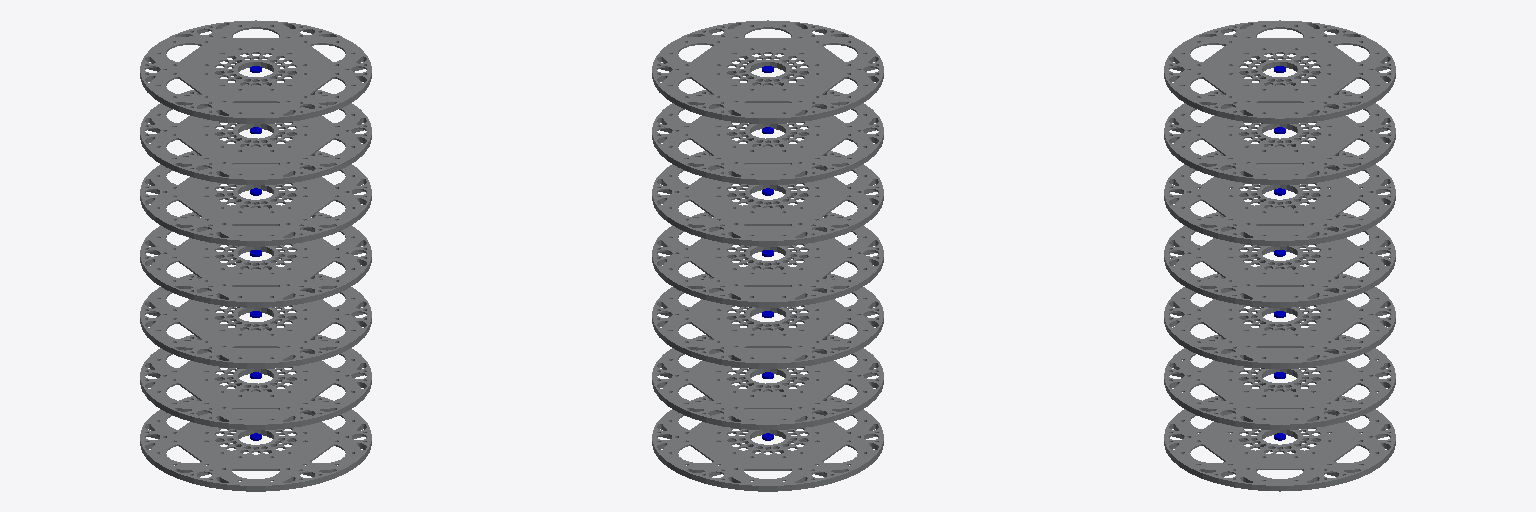
--- Facts derived from the render (not from the file) ---
The picture shows the robot from 3 angles, left to right: view 1: azimuth 30°, elevation 25°; view 2: azimuth 150°, elevation 25°; view 3: azimuth 270°, elevation 25°; orthographic projection.
Robot: origarmRigidKE — 32 links, 31 joints (24 revolute, 6 prismatic, 1 fixed); root link world; default pose: every joint at zero.
Links seen in each view (by area): view 1: plate_-1, plate_5, plate_1, plate_2, plate_0, plate_4, plate_3; view 2: plate_-1, plate_5, plate_1, plate_2, plate_0, plate_4, plate_3; view 3: plate_-1, plate_1, plate_2, plate_4, plate_5, plate_3, plate_0.
Boxes of the visible links, bbox=[...] form: plate_-1: bbox=[140, 20, 371, 123]; plate_5: bbox=[140, 390, 371, 491]; plate_1: bbox=[140, 145, 371, 246]; plate_2: bbox=[140, 205, 371, 307]; plate_0: bbox=[140, 84, 371, 184]; plate_4: bbox=[140, 329, 371, 429]; plate_3: bbox=[140, 268, 371, 368]; plate_-1: bbox=[652, 20, 883, 123]; plate_5: bbox=[652, 390, 883, 491]; plate_1: bbox=[652, 145, 883, 246]; plate_2: bbox=[652, 205, 883, 307]; plate_0: bbox=[652, 84, 883, 184]; plate_4: bbox=[652, 329, 883, 429]; plate_3: bbox=[652, 268, 883, 368]; plate_-1: bbox=[1164, 20, 1395, 123]; plate_1: bbox=[1164, 145, 1395, 246]; plate_2: bbox=[1164, 205, 1395, 307]; plate_4: bbox=[1164, 329, 1395, 429]; plate_5: bbox=[1164, 390, 1395, 491]; plate_3: bbox=[1164, 266, 1395, 368]; plate_0: bbox=[1164, 84, 1395, 184].
Size in the robot's own frame: 0.189 by 0.1888 by 0.336 metres.
Meshes: 1 distinct files referenced, 7 mesh visuals loaded (1 binary STL).

URDF robot description (origarmRigidKE):
<?xml version="1.0" ?>
<!-- =================================================================================== -->
<!-- |    This document was autogenerated by xacro from [local-path]/catkin_ws/src/origarm_ros/model/urdf/origarmRigidKE.urdf.xacro | -->
<!-- |    EDITING THIS FILE BY HAND IS NOT RECOMMENDED                                 | -->
<!-- =================================================================================== -->
<robot name="origarmRigidKE">
  <material name="black">
    <color rgba="0.0 0.0 0.0 1.0"/>
  </material>
  <material name="blue">
    <color rgba="0.0 0.0 0.8 1.0"/>
  </material>
  <material name="green">
    <color rgba="0.0 0.8 0.0 1.0"/>
  </material>
  <material name="grey">
    <color rgba="0.2 0.2 0.2 1.0"/>
  </material>
  <material name="orange">
    <color rgba="1.0 0.4235294117647059 0.0392156862745098 1.0"/>
  </material>
  <material name="brown">
    <color rgba="0.8705882352941177 0.8117647058823529 0.7647058823529411 1.0"/>
  </material>
  <material name="red">
    <color rgba="0.8 0.0 0.0 1.0"/>
  </material>
  <material name="white">
    <color rgba="1.0 1.0 1.0 1.0"/>
  </material>
  <material name="aluminum">
    <color rgba="0.5176470588235295 0.5294117647058824 0.5372549019607843 1.0"/>
  </material>
  <link name="world"/>
  <joint name="fixed" type="fixed">
    <parent link="world"/>
    <child link="plate_-1"/>
    <origin rpy="3.141592653589793 0 0" xyz="0 0 1"/>
  </joint>
  <link name="plate_-1">
    <visual>
      <origin rpy="0 0 0" xyz="0 0 0"/>
      <geometry>
        <mesh filename="package://origarm_ros/model/mesh/origarmPlate_m.STL"/>
      </geometry>
      <material name="aluminum"/>
    </visual>
    <collision>
      <geometry>
        <cylinder length="0.005" radius="0.095"/>
      </geometry>
    </collision>
    <inertial>
      <origin rpy="0 0 0" xyz="0 0 0"/>
      <mass value="0.127"/>
      <inertia ixx="0.00032197" ixy="0.0" ixz="0.0" iyy="0.00032197" iyz="0.0" izz="0.00064284"/>
    </inertial>
  </link>
  <joint name="phantom_joint_segment_0_1_beta" type="revolute">
    <parent link="plate_-1"/>
    <child link="phantom_link_0_1"/>
    <axis xyz="0 0 1"/>
    <origin xyz="0 0 0"/>
    <limit effort="200" lower="-6.283185307179586" upper="6.283185307179586" velocity="20"/>
    <dynamics damping="0.7" friction="0.3"/>
  </joint>
  <link name="phantom_link_0_1">
    <visual>
      <geometry>
        <cylinder length="0.002" radius="0.005"/>
      </geometry>
      <origin rpy="0 0 0" xyz="0 0 0"/>
      <material name="blue"/>
    </visual>
    <inertial>
      <origin rpy="0 0 0" xyz="0 0 0"/>
      <mass value="0.01"/>
      <inertia ixx="0.001" ixy="0.0" ixz="0.0" iyy="0.001" iyz="0.0" izz="0.001"/>
    </inertial>
  </link>
  <joint name="phantom_joint_segment_0_2_alpha2" type="revolute">
    <parent link="phantom_link_0_1"/>
    <child link="phantom_link_0_2"/>
    <axis xyz="0 1 0"/>
    <origin xyz="0 0 0"/>
    <limit effort="200" lower="0.0" upper="0.25" velocity="20"/>
    <dynamics damping="0.7" friction="0.3"/>
  </joint>
  <link name="phantom_link_0_2">
    <visual>
      <geometry>
        <cylinder length="0.002" radius="0.005"/>
      </geometry>
      <origin rpy="0 0 0" xyz="0 0 0"/>
      <material name="blue"/>
    </visual>
    <inertial>
      <origin rpy="0 0 0" xyz="0 0 0"/>
      <mass value="0.01"/>
      <inertia ixx="0.001" ixy="0.0" ixz="0.0" iyy="0.001" iyz="0.0" izz="0.001"/>
    </inertial>
  </link>
  <joint name="phantom_joint_segment_0_3_translation" type="prismatic">
    <parent link="phantom_link_0_2"/>
    <child link="phantom_link_0_3"/>
    <axis xyz="0 0 1"/>
    <origin xyz="0 0 0.055"/>
    <limit effort="200" lower="-0.02" upper="0.03" velocity="20"/>
    <dynamics damping="0.7" friction="0.5"/>
  </joint>
  <link name="phantom_link_0_3">
    <visual>
      <geometry>
        <cylinder length="0.002" radius="0.005"/>
      </geometry>
      <origin rpy="0 0 0" xyz="0 0 0"/>
      <material name="blue"/>
    </visual>
    <inertial>
      <origin rpy="0 0 0" xyz="0 0 0"/>
      <mass value="0.01"/>
      <inertia ixx="0.001" ixy="0.0" ixz="0.0" iyy="0.001" iyz="0.0" izz="0.001"/>
    </inertial>
  </link>
  <joint name="phantom_joint_segment_0_4_alpha2" type="revolute">
    <parent link="phantom_link_0_3"/>
    <child link="phantom_link_0_4"/>
    <axis xyz="0 1 0"/>
    <origin xyz="0 0 0"/>
    <mimic joint="phantom_joint_segment_0_2_alpha2" multiplier="1" offset="0"/>
    <limit effort="200" lower="0.0" upper="0.25" velocity="20"/>
    <dynamics damping="0.7" friction="0.3"/>
  </joint>
  <link name="phantom_link_0_4">
    <visual>
      <geometry>
        <cylinder length="0.002" radius="0.005"/>
      </geometry>
      <origin rpy="0 0 0" xyz="0 0 0"/>
      <material name="blue"/>
    </visual>
    <inertial>
      <origin rpy="0 0 0" xyz="0 0 0"/>
      <mass value="0.01"/>
      <inertia ixx="0.001" ixy="0.0" ixz="0.0" iyy="0.001" iyz="0.0" izz="0.001"/>
    </inertial>
  </link>
  <joint name="phantom_joint_segment_0_5_betaN" type="revolute">
    <parent link="phantom_link_0_4"/>
    <child link="plate_0"/>
    <axis xyz="0 0 1"/>
    <origin xyz="0 0 0"/>
    <mimic joint="phantom_joint_segment_0_1_beta" multiplier="-1" offset="0"/>
    <limit effort="200" lower="-6.283185307179586" upper="6.283185307179586" velocity="20"/>
    <dynamics damping="0.7" friction="0.3"/>
  </joint>
  <link name="plate_0">
    <visual>
      <origin rpy="0 0 0" xyz="0 0 0"/>
      <geometry>
        <mesh filename="package://origarm_ros/model/mesh/origarmPlate_m.STL"/>
      </geometry>
      <material name="aluminum"/>
    </visual>
    <collision>
      <geometry>
        <cylinder length="0.005" radius="0.095"/>
      </geometry>
    </collision>
    <inertial>
      <origin rpy="0 0 0" xyz="0 0 0"/>
      <mass value="0.127"/>
      <inertia ixx="0.00032197" ixy="0.0" ixz="0.0" iyy="0.00032197" iyz="0.0" izz="0.00064284"/>
    </inertial>
  </link>
  <joint name="phantom_joint_segment_1_1_beta" type="revolute">
    <parent link="plate_0"/>
    <child link="phantom_link_1_1"/>
    <axis xyz="0 0 1"/>
    <origin xyz="0 0 0"/>
    <limit effort="200" lower="-6.283185307179586" upper="6.283185307179586" velocity="20"/>
    <dynamics damping="0.7" friction="0.3"/>
  </joint>
  <link name="phantom_link_1_1">
    <visual>
      <geometry>
        <cylinder length="0.002" radius="0.005"/>
      </geometry>
      <origin rpy="0 0 0" xyz="0 0 0"/>
      <material name="blue"/>
    </visual>
    <inertial>
      <origin rpy="0 0 0" xyz="0 0 0"/>
      <mass value="0.01"/>
      <inertia ixx="0.001" ixy="0.0" ixz="0.0" iyy="0.001" iyz="0.0" izz="0.001"/>
    </inertial>
  </link>
  <joint name="phantom_joint_segment_1_2_alpha2" type="revolute">
    <parent link="phantom_link_1_1"/>
    <child link="phantom_link_1_2"/>
    <axis xyz="0 1 0"/>
    <origin xyz="0 0 0"/>
    <limit effort="200" lower="0.0" upper="0.25" velocity="20"/>
    <dynamics damping="0.7" friction="0.3"/>
  </joint>
  <link name="phantom_link_1_2">
    <visual>
      <geometry>
        <cylinder length="0.002" radius="0.005"/>
      </geometry>
      <origin rpy="0 0 0" xyz="0 0 0"/>
      <material name="blue"/>
    </visual>
    <inertial>
      <origin rpy="0 0 0" xyz="0 0 0"/>
      <mass value="0.01"/>
      <inertia ixx="0.001" ixy="0.0" ixz="0.0" iyy="0.001" iyz="0.0" izz="0.001"/>
    </inertial>
  </link>
  <joint name="phantom_joint_segment_1_3_translation" type="prismatic">
    <parent link="phantom_link_1_2"/>
    <child link="phantom_link_1_3"/>
    <axis xyz="0 0 1"/>
    <origin xyz="0 0 0.055"/>
    <limit effort="200" lower="-0.02" upper="0.03" velocity="20"/>
    <dynamics damping="0.7" friction="0.5"/>
  </joint>
  <link name="phantom_link_1_3">
    <visual>
      <geometry>
        <cylinder length="0.002" radius="0.005"/>
      </geometry>
      <origin rpy="0 0 0" xyz="0 0 0"/>
      <material name="blue"/>
    </visual>
    <inertial>
      <origin rpy="0 0 0" xyz="0 0 0"/>
      <mass value="0.01"/>
      <inertia ixx="0.001" ixy="0.0" ixz="0.0" iyy="0.001" iyz="0.0" izz="0.001"/>
    </inertial>
  </link>
  <joint name="phantom_joint_segment_1_4_alpha2" type="revolute">
    <parent link="phantom_link_1_3"/>
    <child link="phantom_link_1_4"/>
    <axis xyz="0 1 0"/>
    <origin xyz="0 0 0"/>
    <mimic joint="phantom_joint_segment_1_2_alpha2" multiplier="1" offset="0"/>
    <limit effort="200" lower="0.0" upper="0.25" velocity="20"/>
    <dynamics damping="0.7" friction="0.3"/>
  </joint>
  <link name="phantom_link_1_4">
    <visual>
      <geometry>
        <cylinder length="0.002" radius="0.005"/>
      </geometry>
      <origin rpy="0 0 0" xyz="0 0 0"/>
      <material name="blue"/>
    </visual>
    <inertial>
      <origin rpy="0 0 0" xyz="0 0 0"/>
      <mass value="0.01"/>
      <inertia ixx="0.001" ixy="0.0" ixz="0.0" iyy="0.001" iyz="0.0" izz="0.001"/>
    </inertial>
  </link>
  <joint name="phantom_joint_segment_1_5_betaN" type="revolute">
    <parent link="phantom_link_1_4"/>
    <child link="plate_1"/>
    <axis xyz="0 0 1"/>
    <origin xyz="0 0 0"/>
    <mimic joint="phantom_joint_segment_1_1_beta" multiplier="-1" offset="0"/>
    <limit effort="200" lower="-6.283185307179586" upper="6.283185307179586" velocity="20"/>
    <dynamics damping="0.7" friction="0.3"/>
  </joint>
  <link name="plate_1">
    <visual>
      <origin rpy="0 0 0" xyz="0 0 0"/>
      <geometry>
        <mesh filename="package://origarm_ros/model/mesh/origarmPlate_m.STL"/>
      </geometry>
      <material name="aluminum"/>
    </visual>
    <collision>
      <geometry>
        <cylinder length="0.005" radius="0.095"/>
      </geometry>
    </collision>
    <inertial>
      <origin rpy="0 0 0" xyz="0 0 0"/>
      <mass value="0.127"/>
      <inertia ixx="0.00032197" ixy="0.0" ixz="0.0" iyy="0.00032197" iyz="0.0" izz="0.00064284"/>
    </inertial>
  </link>
  <joint name="phantom_joint_segment_2_1_beta" type="revolute">
    <parent link="plate_1"/>
    <child link="phantom_link_2_1"/>
    <axis xyz="0 0 1"/>
    <origin xyz="0 0 0"/>
    <limit effort="200" lower="-6.283185307179586" upper="6.283185307179586" velocity="20"/>
    <dynamics damping="0.7" friction="0.3"/>
  </joint>
  <link name="phantom_link_2_1">
    <visual>
      <geometry>
        <cylinder length="0.002" radius="0.005"/>
      </geometry>
      <origin rpy="0 0 0" xyz="0 0 0"/>
      <material name="blue"/>
    </visual>
    <inertial>
      <origin rpy="0 0 0" xyz="0 0 0"/>
      <mass value="0.01"/>
      <inertia ixx="0.001" ixy="0.0" ixz="0.0" iyy="0.001" iyz="0.0" izz="0.001"/>
    </inertial>
  </link>
  <joint name="phantom_joint_segment_2_2_alpha2" type="revolute">
    <parent link="phantom_link_2_1"/>
    <child link="phantom_link_2_2"/>
    <axis xyz="0 1 0"/>
    <origin xyz="0 0 0"/>
    <limit effort="200" lower="0.0" upper="0.25" velocity="20"/>
    <dynamics damping="0.7" friction="0.3"/>
  </joint>
  <link name="phantom_link_2_2">
    <visual>
      <geometry>
        <cylinder length="0.002" radius="0.005"/>
      </geometry>
      <origin rpy="0 0 0" xyz="0 0 0"/>
      <material name="blue"/>
    </visual>
    <inertial>
      <origin rpy="0 0 0" xyz="0 0 0"/>
      <mass value="0.01"/>
      <inertia ixx="0.001" ixy="0.0" ixz="0.0" iyy="0.001" iyz="0.0" izz="0.001"/>
    </inertial>
  </link>
  <joint name="phantom_joint_segment_2_3_translation" type="prismatic">
    <parent link="phantom_link_2_2"/>
    <child link="phantom_link_2_3"/>
    <axis xyz="0 0 1"/>
    <origin xyz="0 0 0.055"/>
    <limit effort="200" lower="-0.02" upper="0.03" velocity="20"/>
    <dynamics damping="0.7" friction="0.5"/>
  </joint>
  <link name="phantom_link_2_3">
    <visual>
      <geometry>
        <cylinder length="0.002" radius="0.005"/>
      </geometry>
      <origin rpy="0 0 0" xyz="0 0 0"/>
      <material name="blue"/>
    </visual>
    <inertial>
      <origin rpy="0 0 0" xyz="0 0 0"/>
      <mass value="0.01"/>
      <inertia ixx="0.001" ixy="0.0" ixz="0.0" iyy="0.001" iyz="0.0" izz="0.001"/>
    </inertial>
  </link>
  <joint name="phantom_joint_segment_2_4_alpha2" type="revolute">
    <parent link="phantom_link_2_3"/>
    <child link="phantom_link_2_4"/>
    <axis xyz="0 1 0"/>
    <origin xyz="0 0 0"/>
    <mimic joint="phantom_joint_segment_2_2_alpha2" multiplier="1" offset="0"/>
    <limit effort="200" lower="0.0" upper="0.25" velocity="20"/>
    <dynamics damping="0.7" friction="0.3"/>
  </joint>
  <link name="phantom_link_2_4">
    <visual>
      <geometry>
        <cylinder length="0.002" radius="0.005"/>
      </geometry>
      <origin rpy="0 0 0" xyz="0 0 0"/>
      <material name="blue"/>
    </visual>
    <inertial>
      <origin rpy="0 0 0" xyz="0 0 0"/>
      <mass value="0.01"/>
      <inertia ixx="0.001" ixy="0.0" ixz="0.0" iyy="0.001" iyz="0.0" izz="0.001"/>
    </inertial>
  </link>
  <joint name="phantom_joint_segment_2_5_betaN" type="revolute">
    <parent link="phantom_link_2_4"/>
    <child link="plate_2"/>
    <axis xyz="0 0 1"/>
    <origin xyz="0 0 0"/>
    <mimic joint="phantom_joint_segment_2_1_beta" multiplier="-1" offset="0"/>
    <limit effort="200" lower="-6.283185307179586" upper="6.283185307179586" velocity="20"/>
    <dynamics damping="0.7" friction="0.3"/>
  </joint>
  <link name="plate_2">
    <visual>
      <origin rpy="0 0 0" xyz="0 0 0"/>
      <geometry>
        <mesh filename="package://origarm_ros/model/mesh/origarmPlate_m.STL"/>
      </geometry>
      <material name="aluminum"/>
    </visual>
    <collision>
      <geometry>
        <cylinder length="0.005" radius="0.095"/>
      </geometry>
    </collision>
    <inertial>
      <origin rpy="0 0 0" xyz="0 0 0"/>
      <mass value="0.127"/>
      <inertia ixx="0.00032197" ixy="0.0" ixz="0.0" iyy="0.00032197" iyz="0.0" izz="0.00064284"/>
    </inertial>
  </link>
  <joint name="phantom_joint_segment_3_1_beta" type="revolute">
    <parent link="plate_2"/>
    <child link="phantom_link_3_1"/>
    <axis xyz="0 0 1"/>
    <origin xyz="0 0 0"/>
    <limit effort="200" lower="-6.283185307179586" upper="6.283185307179586" velocity="20"/>
    <dynamics damping="0.7" friction="0.3"/>
  </joint>
  <link name="phantom_link_3_1">
    <visual>
      <geometry>
        <cylinder length="0.002" radius="0.005"/>
      </geometry>
      <origin rpy="0 0 0" xyz="0 0 0"/>
      <material name="blue"/>
    </visual>
    <inertial>
      <origin rpy="0 0 0" xyz="0 0 0"/>
      <mass value="0.01"/>
      <inertia ixx="0.001" ixy="0.0" ixz="0.0" iyy="0.001" iyz="0.0" izz="0.001"/>
    </inertial>
  </link>
  <joint name="phantom_joint_segment_3_2_alpha2" type="revolute">
    <parent link="phantom_link_3_1"/>
    <child link="phantom_link_3_2"/>
    <axis xyz="0 1 0"/>
    <origin xyz="0 0 0"/>
    <limit effort="200" lower="0.0" upper="0.25" velocity="20"/>
    <dynamics damping="0.7" friction="0.3"/>
  </joint>
  <link name="phantom_link_3_2">
    <visual>
      <geometry>
        <cylinder length="0.002" radius="0.005"/>
      </geometry>
      <origin rpy="0 0 0" xyz="0 0 0"/>
      <material name="blue"/>
    </visual>
    <inertial>
      <origin rpy="0 0 0" xyz="0 0 0"/>
      <mass value="0.01"/>
      <inertia ixx="0.001" ixy="0.0" ixz="0.0" iyy="0.001" iyz="0.0" izz="0.001"/>
    </inertial>
  </link>
  <joint name="phantom_joint_segment_3_3_translation" type="prismatic">
    <parent link="phantom_link_3_2"/>
    <child link="phantom_link_3_3"/>
    <axis xyz="0 0 1"/>
    <origin xyz="0 0 0.055"/>
    <limit effort="200" lower="-0.02" upper="0.03" velocity="20"/>
    <dynamics damping="0.7" friction="0.5"/>
  </joint>
  <link name="phantom_link_3_3">
    <visual>
      <geometry>
        <cylinder length="0.002" radius="0.005"/>
      </geometry>
      <origin rpy="0 0 0" xyz="0 0 0"/>
      <material name="blue"/>
    </visual>
    <inertial>
      <origin rpy="0 0 0" xyz="0 0 0"/>
      <mass value="0.01"/>
      <inertia ixx="0.001" ixy="0.0" ixz="0.0" iyy="0.001" iyz="0.0" izz="0.001"/>
    </inertial>
  </link>
  <joint name="phantom_joint_segment_3_4_alpha2" type="revolute">
    <parent link="phantom_link_3_3"/>
    <child link="phantom_link_3_4"/>
    <axis xyz="0 1 0"/>
    <origin xyz="0 0 0"/>
    <mimic joint="phantom_joint_segment_3_2_alpha2" multiplier="1" offset="0"/>
    <limit effort="200" lower="0.0" upper="0.25" velocity="20"/>
    <dynamics damping="0.7" friction="0.3"/>
  </joint>
  <link name="phantom_link_3_4">
    <visual>
      <geometry>
        <cylinder length="0.002" radius="0.005"/>
      </geometry>
      <origin rpy="0 0 0" xyz="0 0 0"/>
      <material name="blue"/>
    </visual>
    <inertial>
      <origin rpy="0 0 0" xyz="0 0 0"/>
      <mass value="0.01"/>
      <inertia ixx="0.001" ixy="0.0" ixz="0.0" iyy="0.001" iyz="0.0" izz="0.001"/>
    </inertial>
  </link>
  <joint name="phantom_joint_segment_3_5_betaN" type="revolute">
    <parent link="phantom_link_3_4"/>
    <child link="plate_3"/>
    <axis xyz="0 0 1"/>
    <origin xyz="0 0 0"/>
    <mimic joint="phantom_joint_segment_3_1_beta" multiplier="-1" offset="0"/>
    <limit effort="200" lower="-6.283185307179586" upper="6.283185307179586" velocity="20"/>
    <dynamics damping="0.7" friction="0.3"/>
  </joint>
  <link name="plate_3">
    <visual>
      <origin rpy="0 0 0" xyz="0 0 0"/>
      <geometry>
        <mesh filename="package://origarm_ros/model/mesh/origarmPlate_m.STL"/>
      </geometry>
      <material name="aluminum"/>
    </visual>
    <collision>
      <geometry>
        <cylinder length="0.005" radius="0.095"/>
      </geometry>
    </collision>
    <inertial>
      <origin rpy="0 0 0" xyz="0 0 0"/>
      <mass value="0.127"/>
      <inertia ixx="0.00032197" ixy="0.0" ixz="0.0" iyy="0.00032197" iyz="0.0" izz="0.00064284"/>
    </inertial>
  </link>
  <joint name="phantom_joint_segment_4_1_beta" type="revolute">
    <parent link="plate_3"/>
    <child link="phantom_link_4_1"/>
    <axis xyz="0 0 1"/>
    <origin xyz="0 0 0"/>
    <limit effort="200" lower="-6.283185307179586" upper="6.283185307179586" velocity="20"/>
    <dynamics damping="0.7" friction="0.3"/>
  </joint>
  <link name="phantom_link_4_1">
    <visual>
      <geometry>
        <cylinder length="0.002" radius="0.005"/>
      </geometry>
      <origin rpy="0 0 0" xyz="0 0 0"/>
      <material name="blue"/>
    </visual>
    <inertial>
      <origin rpy="0 0 0" xyz="0 0 0"/>
      <mass value="0.01"/>
      <inertia ixx="0.001" ixy="0.0" ixz="0.0" iyy="0.001" iyz="0.0" izz="0.001"/>
    </inertial>
  </link>
  <joint name="phantom_joint_segment_4_2_alpha2" type="revolute">
    <parent link="phantom_link_4_1"/>
    <child link="phantom_link_4_2"/>
    <axis xyz="0 1 0"/>
    <origin xyz="0 0 0"/>
    <limit effort="200" lower="0.0" upper="0.25" velocity="20"/>
    <dynamics damping="0.7" friction="0.3"/>
  </joint>
  <link name="phantom_link_4_2">
    <visual>
      <geometry>
        <cylinder length="0.002" radius="0.005"/>
      </geometry>
      <origin rpy="0 0 0" xyz="0 0 0"/>
      <material name="blue"/>
    </visual>
    <inertial>
      <origin rpy="0 0 0" xyz="0 0 0"/>
      <mass value="0.01"/>
      <inertia ixx="0.001" ixy="0.0" ixz="0.0" iyy="0.001" iyz="0.0" izz="0.001"/>
    </inertial>
  </link>
  <joint name="phantom_joint_segment_4_3_translation" type="prismatic">
    <parent link="phantom_link_4_2"/>
    <child link="phantom_link_4_3"/>
    <axis xyz="0 0 1"/>
    <origin xyz="0 0 0.055"/>
    <limit effort="200" lower="-0.02" upper="0.03" velocity="20"/>
    <dynamics damping="0.7" friction="0.5"/>
  </joint>
  <link name="phantom_link_4_3">
    <visual>
      <geometry>
        <cylinder length="0.002" radius="0.005"/>
      </geometry>
      <origin rpy="0 0 0" xyz="0 0 0"/>
      <material name="blue"/>
    </visual>
    <inertial>
      <origin rpy="0 0 0" xyz="0 0 0"/>
      <mass value="0.01"/>
      <inertia ixx="0.001" ixy="0.0" ixz="0.0" iyy="0.001" iyz="0.0" izz="0.001"/>
    </inertial>
  </link>
  <joint name="phantom_joint_segment_4_4_alpha2" type="revolute">
    <parent link="phantom_link_4_3"/>
    <child link="phantom_link_4_4"/>
    <axis xyz="0 1 0"/>
    <origin xyz="0 0 0"/>
    <mimic joint="phantom_joint_segment_4_2_alpha2" multiplier="1" offset="0"/>
    <limit effort="200" lower="0.0" upper="0.25" velocity="20"/>
    <dynamics damping="0.7" friction="0.3"/>
  </joint>
  <link name="phantom_link_4_4">
    <visual>
      <geometry>
        <cylinder length="0.002" radius="0.005"/>
      </geometry>
      <origin rpy="0 0 0" xyz="0 0 0"/>
      <material name="blue"/>
    </visual>
    <inertial>
      <origin rpy="0 0 0" xyz="0 0 0"/>
      <mass value="0.01"/>
      <inertia ixx="0.001" ixy="0.0" ixz="0.0" iyy="0.001" iyz="0.0" izz="0.001"/>
    </inertial>
  </link>
  <joint name="phantom_joint_segment_4_5_betaN" type="revolute">
    <parent link="phantom_link_4_4"/>
    <child link="plate_4"/>
    <axis xyz="0 0 1"/>
    <origin xyz="0 0 0"/>
    <mimic joint="phantom_joint_segment_4_1_beta" multiplier="-1" offset="0"/>
    <limit effort="200" lower="-6.283185307179586" upper="6.283185307179586" velocity="20"/>
    <dynamics damping="0.7" friction="0.3"/>
  </joint>
  <link name="plate_4">
    <visual>
      <origin rpy="0 0 0" xyz="0 0 0"/>
      <geometry>
        <mesh filename="package://origarm_ros/model/mesh/origarmPlate_m.STL"/>
      </geometry>
      <material name="aluminum"/>
    </visual>
    <collision>
      <geometry>
        <cylinder length="0.005" radius="0.095"/>
      </geometry>
    </collision>
    <inertial>
      <origin rpy="0 0 0" xyz="0 0 0"/>
      <mass value="0.127"/>
      <inertia ixx="0.00032197" ixy="0.0" ixz="0.0" iyy="0.00032197" iyz="0.0" izz="0.00064284"/>
    </inertial>
  </link>
  <joint name="phantom_joint_segment_5_1_beta" type="revolute">
    <parent link="plate_4"/>
    <child link="phantom_link_5_1"/>
    <axis xyz="0 0 1"/>
    <origin xyz="0 0 0"/>
    <limit effort="200" lower="-6.283185307179586" upper="6.283185307179586" velocity="20"/>
    <dynamics damping="0.7" friction="0.3"/>
  </joint>
  <link name="phantom_link_5_1">
    <visual>
      <geometry>
        <cylinder length="0.002" radius="0.005"/>
      </geometry>
      <origin rpy="0 0 0" xyz="0 0 0"/>
      <material name="blue"/>
    </visual>
    <inertial>
      <origin rpy="0 0 0" xyz="0 0 0"/>
      <mass value="0.01"/>
      <inertia ixx="0.001" ixy="0.0" ixz="0.0" iyy="0.001" iyz="0.0" izz="0.001"/>
    </inertial>
  </link>
  <joint name="phantom_joint_segment_5_2_alpha2" type="revolute">
    <parent link="phantom_link_5_1"/>
    <child link="phantom_link_5_2"/>
    <axis xyz="0 1 0"/>
    <origin xyz="0 0 0"/>
    <limit effort="200" lower="0.0" upper="0.25" velocity="20"/>
    <dynamics damping="0.7" friction="0.3"/>
  </joint>
  <link name="phantom_link_5_2">
    <visual>
      <geometry>
        <cylinder length="0.002" radius="0.005"/>
      </geometry>
      <origin rpy="0 0 0" xyz="0 0 0"/>
      <material name="blue"/>
    </visual>
    <inertial>
      <origin rpy="0 0 0" xyz="0 0 0"/>
      <mass value="0.01"/>
      <inertia ixx="0.001" ixy="0.0" ixz="0.0" iyy="0.001" iyz="0.0" izz="0.001"/>
    </inertial>
  </link>
  <joint name="phantom_joint_segment_5_3_translation" type="prismatic">
    <parent link="phantom_link_5_2"/>
    <child link="phantom_link_5_3"/>
    <axis xyz="0 0 1"/>
    <origin xyz="0 0 0.055"/>
    <limit effort="200" lower="-0.02" upper="0.03" velocity="20"/>
    <dynamics damping="0.7" friction="0.5"/>
  </joint>
  <link name="phantom_link_5_3">
    <visual>
      <geometry>
        <cylinder length="0.002" radius="0.005"/>
      </geometry>
      <origin rpy="0 0 0" xyz="0 0 0"/>
      <material name="blue"/>
    </visual>
    <inertial>
      <origin rpy="0 0 0" xyz="0 0 0"/>
      <mass value="0.01"/>
      <inertia ixx="0.001" ixy="0.0" ixz="0.0" iyy="0.001" iyz="0.0" izz="0.001"/>
    </inertial>
  </link>
  <joint name="phantom_joint_segment_5_4_alpha2" type="revolute">
    <parent link="phantom_link_5_3"/>
    <child link="phantom_link_5_4"/>
    <axis xyz="0 1 0"/>
    <origin xyz="0 0 0"/>
    <mimic joint="phantom_joint_segment_5_2_alpha2" multiplier="1" offset="0"/>
    <limit effort="200" lower="0.0" upper="0.25" velocity="20"/>
    <dynamics damping="0.7" friction="0.3"/>
  </joint>
  <link name="phantom_link_5_4">
    <visual>
      <geometry>
        <cylinder length="0.002" radius="0.005"/>
      </geometry>
      <origin rpy="0 0 0" xyz="0 0 0"/>
      <material name="blue"/>
    </visual>
    <inertial>
      <origin rpy="0 0 0" xyz="0 0 0"/>
      <mass value="0.01"/>
      <inertia ixx="0.001" ixy="0.0" ixz="0.0" iyy="0.001" iyz="0.0" izz="0.001"/>
    </inertial>
  </link>
  <joint name="phantom_joint_segment_5_5_betaN" type="revolute">
    <parent link="phantom_link_5_4"/>
    <child link="plate_5"/>
    <axis xyz="0 0 1"/>
    <origin xyz="0 0 0"/>
    <mimic joint="phantom_joint_segment_5_1_beta" multiplier="-1" offset="0"/>
    <limit effort="200" lower="-6.283185307179586" upper="6.283185307179586" velocity="20"/>
    <dynamics damping="0.7" friction="0.3"/>
  </joint>
  <link name="plate_5">
    <visual>
      <origin rpy="0 0 0" xyz="0 0 0"/>
      <geometry>
        <mesh filename="package://origarm_ros/model/mesh/origarmPlate_m.STL"/>
      </geometry>
      <material name="aluminum"/>
    </visual>
    <collision>
      <geometry>
        <cylinder length="0.005" radius="0.095"/>
      </geometry>
    </collision>
    <inertial>
      <origin rpy="0 0 0" xyz="0 0 0"/>
      <mass value="0.127"/>
      <inertia ixx="0.00032197" ixy="0.0" ixz="0.0" iyy="0.00032197" iyz="0.0" izz="0.00064284"/>
    </inertial>
  </link>
  <!-- ros_control plugin      -->
  <!-- Add gazebo transmission -->
  <gazebo>
    <plugin filename="libgazebo_ros_control.so" name="gazebo_ros_control">
      <robotNamespace>/origarmRigidKE</robotNamespace>
    </plugin>
  </gazebo>
  <transmission name="trans_segment_0_1_beta">
    <type>transmission_interface/SimpleTransmission</type>
    <joint name="phantom_joint_segment_0_1_beta">
      <hardwareInterface>hardware_interface/PositionJointInterface</hardwareInterface>
    </joint>
    <actuator name="actuator_segment_0_1_beta">
      <hardwareInterface>hardware_interface/PositionJointInterface</hardwareInterface>
      <mechanicalReduction>1</mechanicalReduction>
    </actuator>
  </transmission>
  <transmission name="trans_segment_0_2_alpha2">
    <type>transmission_interface/SimpleTransmission</type>
    <joint name="phantom_joint_segment_0_2_alpha2">
      <hardwareInterface>hardware_interface/PositionJointInterface</hardwareInterface>
    </joint>
    <actuator name="actuator_segment_0_2_alpha2">
      <hardwareInterface>hardware_interface/PositionJointInterface</hardwareInterface>
      <mechanicalReduction>1</mechanicalReduction>
    </actuator>
  </transmission>
  <transmission name="trans_segment_0_3_translation">
    <type>transmission_interface/SimpleTransmission</type>
    <joint name="phantom_joint_segment_0_3_translation">
      <hardwareInterface>hardware_interface/PositionJointInterface</hardwareInterface>
    </joint>
    <actuator name="actuator_segment_0_3_translation">
      <hardwareInterface>hardware_interface/PositionJointInterface</hardwareInterface>
      <mechanicalReduction>1</mechanicalReduction>
    </actuator>
  </transmission>
  <transmission name="trans_segment_0_4_alpha2">
    <type>transmission_interface/SimpleTransmission</type>
    <joint name="phantom_joint_segment_0_4_alpha2">
      <hardwareInterface>hardware_interface/PositionJointInterface</hardwareInterface>
    </joint>
    <actuator name="actuator_segment_0_4_alpha2">
      <hardwareInterface>hardware_interface/PositionJointInterface</hardwareInterface>
      <mechanicalReduction>1</mechanicalReduction>
    </actuator>
  </transmission>
  <transmission name="trans_segment_0_5_betaN">
    <type>transmission_interface/SimpleTransmission</type>
    <joint name="phantom_joint_segment_0_5_betaN">
      <hardwareInterface>hardware_interface/PositionJointInterface</hardwareInterface>
    </joint>
    <actuator name="actuator_segment_0_5_betaN">
      <hardwareInterface>hardware_interface/PositionJointInterface</hardwareInterface>
      <mechanicalReduction>1</mechanicalReduction>
    </actuator>
  </transmission>
  <transmission name="trans_segment_1_1_beta">
    <type>transmission_interface/SimpleTransmission</type>
    <joint name="phantom_joint_segment_1_1_beta">
      <hardwareInterface>hardware_interface/PositionJointInterface</hardwareInterface>
    </joint>
    <actuator name="actuator_segment_1_1_beta">
      <hardwareInterface>hardware_interface/PositionJointInterface</hardwareInterface>
      <mechanicalReduction>1</mechanicalReduction>
    </actuator>
  </transmission>
  <transmission name="trans_segment_1_2_alpha2">
    <type>transmission_interface/SimpleTransmission</type>
    <joint name="phantom_joint_segment_1_2_alpha2">
      <hardwareInterface>hardware_interface/PositionJointInterface</hardwareInterface>
    </joint>
    <actuator name="actuator_segment_1_2_alpha2">
      <hardwareInterface>hardware_interface/PositionJointInterface</hardwareInterface>
      <mechanicalReduction>1</mechanicalReduction>
    </actuator>
  </transmission>
  <transmission name="trans_segment_1_3_translation">
    <type>transmission_interface/SimpleTransmission</type>
    <joint name="phantom_joint_segment_1_3_translation">
      <hardwareInterface>hardware_interface/PositionJointInterface</hardwareInterface>
    </joint>
    <actuator name="actuator_segment_1_3_translation">
      <hardwareInterface>hardware_interface/PositionJointInterface</hardwareInterface>
      <mechanicalReduction>1</mechanicalReduction>
    </actuator>
  </transmission>
  <transmission name="trans_segment_1_4_alpha2">
    <type>transmission_interface/SimpleTransmission</type>
    <joint name="phantom_joint_segment_1_4_alpha2">
      <hardwareInterface>hardware_interface/PositionJointInterface</hardwareInterface>
    </joint>
    <actuator name="actuator_segment_1_4_alpha2">
      <hardwareInterface>hardware_interface/PositionJointInterface</hardwareInterface>
      <mechanicalReduction>1</mechanicalReduction>
    </actuator>
  </transmission>
  <transmission name="trans_segment_1_5_betaN">
    <type>transmission_interface/SimpleTransmission</type>
    <joint name="phantom_joint_segment_1_5_betaN">
      <hardwareInterface>hardware_interface/PositionJointInterface</hardwareInterface>
    </joint>
    <actuator name="actuator_segment_1_5_betaN">
      <hardwareInterface>hardware_interface/PositionJointInterface</hardwareInterface>
      <mechanicalReduction>1</mechanicalReduction>
    </actuator>
  </transmission>
  <transmission name="trans_segment_2_1_beta">
    <type>transmission_interface/SimpleTransmission</type>
    <joint name="phantom_joint_segment_2_1_beta">
      <hardwareInterface>hardware_interface/PositionJointInterface</hardwareInterface>
    </joint>
    <actuator name="actuator_segment_2_1_beta">
      <hardwareInterface>hardware_interface/PositionJointInterface</hardwareInterface>
      <mechanicalReduction>1</mechanicalReduction>
    </actuator>
  </transmission>
  <transmission name="trans_segment_2_2_alpha2">
    <type>transmission_interface/SimpleTransmission</type>
    <joint name="phantom_joint_segment_2_2_alpha2">
      <hardwareInterface>hardware_interface/PositionJointInterface</hardwareInterface>
    </joint>
    <actuator name="actuator_segment_2_2_alpha2">
      <hardwareInterface>hardware_interface/PositionJointInterface</hardwareInterface>
      <mechanicalReduction>1</mechanicalReduction>
    </actuator>
  </transmission>
  <transmission name="trans_segment_2_3_translation">
    <type>transmission_interface/SimpleTransmission</type>
    <joint name="phantom_joint_segment_2_3_translation">
      <hardwareInterface>hardware_interface/PositionJointInterface</hardwareInterface>
    </joint>
    <actuator name="actuator_segment_2_3_translation">
      <hardwareInterface>hardware_interface/PositionJointInterface</hardwareInterface>
      <mechanicalReduction>1</mechanicalReduction>
    </actuator>
  </transmission>
  <transmission name="trans_segment_2_4_alpha2">
    <type>transmission_interface/SimpleTransmission</type>
    <joint name="phantom_joint_segment_2_4_alpha2">
      <hardwareInterface>hardware_interface/PositionJointInterface</hardwareInterface>
    </joint>
    <actuator name="actuator_segment_2_4_alpha2">
      <hardwareInterface>hardware_interface/PositionJointInterface</hardwareInterface>
      <mechanicalReduction>1</mechanicalReduction>
    </actuator>
  </transmission>
  <transmission name="trans_segment_2_5_betaN">
    <type>transmission_interface/SimpleTransmission</type>
    <joint name="phantom_joint_segment_2_5_betaN">
      <hardwareInterface>hardware_interface/PositionJointInterface</hardwareInterface>
    </joint>
    <actuator name="actuator_segment_2_5_betaN">
      <hardwareInterface>hardware_interface/PositionJointInterface</hardwareInterface>
      <mechanicalReduction>1</mechanicalReduction>
    </actuator>
  </transmission>
  <transmission name="trans_segment_3_1_beta">
    <type>transmission_interface/SimpleTransmission</type>
    <joint name="phantom_joint_segment_3_1_beta">
      <hardwareInterface>hardware_interface/PositionJointInterface</hardwareInterface>
    </joint>
    <actuator name="actuator_segment_3_1_beta">
      <hardwareInterface>hardware_interface/PositionJointInterface</hardwareInterface>
      <mechanicalReduction>1</mechanicalReduction>
    </actuator>
  </transmission>
  <transmission name="trans_segment_3_2_alpha2">
    <type>transmission_interface/SimpleTransmission</type>
    <joint name="phantom_joint_segment_3_2_alpha2">
      <hardwareInterface>hardware_interface/PositionJointInterface</hardwareInterface>
    </joint>
    <actuator name="actuator_segment_3_2_alpha2">
      <hardwareInterface>hardware_interface/PositionJointInterface</hardwareInterface>
      <mechanicalReduction>1</mechanicalReduction>
    </actuator>
  </transmission>
  <transmission name="trans_segment_3_3_translation">
    <type>transmission_interface/SimpleTransmission</type>
    <joint name="phantom_joint_segment_3_3_translation">
      <hardwareInterface>hardware_interface/PositionJointInterface</hardwareInterface>
    </joint>
    <actuator name="actuator_segment_3_3_translation">
      <hardwareInterface>hardware_interface/PositionJointInterface</hardwareInterface>
      <mechanicalReduction>1</mechanicalReduction>
    </actuator>
  </transmission>
  <transmission name="trans_segment_3_4_alpha2">
    <type>transmission_interface/SimpleTransmission</type>
    <joint name="phantom_joint_segment_3_4_alpha2">
      <hardwareInterface>hardware_interface/PositionJointInterface</hardwareInterface>
    </joint>
    <actuator name="actuator_segment_3_4_alpha2">
      <hardwareInterface>hardware_interface/PositionJointInterface</hardwareInterface>
      <mechanicalReduction>1</mechanicalReduction>
    </actuator>
  </transmission>
  <transmission name="trans_segment_3_5_betaN">
    <type>transmission_interface/SimpleTransmission</type>
    <joint name="phantom_joint_segment_3_5_betaN">
      <hardwareInterface>hardware_interface/PositionJointInterface</hardwareInterface>
    </joint>
    <actuator name="actuator_segment_3_5_betaN">
      <hardwareInterface>hardware_interface/PositionJointInterface</hardwareInterface>
      <mechanicalReduction>1</mechanicalReduction>
    </actuator>
  </transmission>
  <transmission name="trans_segment_4_1_beta">
    <type>transmission_interface/SimpleTransmission</type>
    <joint name="phantom_joint_segment_4_1_beta">
      <hardwareInterface>hardware_interface/PositionJointInterface</hardwareInterface>
    </joint>
    <actuator name="actuator_segment_4_1_beta">
      <hardwareInterface>hardware_interface/PositionJointInterface</hardwareInterface>
      <mechanicalReduction>1</mechanicalReduction>
    </actuator>
  </transmission>
  <transmission name="trans_segment_4_2_alpha2">
    <type>transmission_interface/SimpleTransmission</type>
    <joint name="phantom_joint_segment_4_2_alpha2">
      <hardwareInterface>hardware_interface/PositionJointInterface</hardwareInterface>
    </joint>
    <actuator name="actuator_segment_4_2_alpha2">
      <hardwareInterface>hardware_interface/PositionJointInterface</hardwareInterface>
      <mechanicalReduction>1</mechanicalReduction>
    </actuator>
  </transmission>
  <transmission name="trans_segment_4_3_translation">
    <type>transmission_interface/SimpleTransmission</type>
    <joint name="phantom_joint_segment_4_3_translation">
      <hardwareInterface>hardware_interface/PositionJointInterface</hardwareInterface>
    </joint>
    <actuator name="actuator_segment_4_3_translation">
      <hardwareInterface>hardware_interface/PositionJointInterface</hardwareInterface>
      <mechanicalReduction>1</mechanicalReduction>
    </actuator>
  </transmission>
  <transmission name="trans_segment_4_4_alpha2">
    <type>transmission_interface/SimpleTransmission</type>
    <joint name="phantom_joint_segment_4_4_alpha2">
      <hardwareInterface>hardware_interface/PositionJointInterface</hardwareInterface>
    </joint>
    <actuator name="actuator_segment_4_4_alpha2">
      <hardwareInterface>hardware_interface/PositionJointInterface</hardwareInterface>
      <mechanicalReduction>1</mechanicalReduction>
    </actuator>
  </transmission>
  <transmission name="trans_segment_4_5_betaN">
    <type>transmission_interface/SimpleTransmission</type>
    <joint name="phantom_joint_segment_4_5_betaN">
      <hardwareInterface>hardware_interface/PositionJointInterface</hardwareInterface>
    </joint>
    <actuator name="actuator_segment_4_5_betaN">
      <hardwareInterface>hardware_interface/PositionJointInterface</hardwareInterface>
      <mechanicalReduction>1</mechanicalReduction>
    </actuator>
  </transmission>
  <transmission name="trans_segment_5_1_beta">
    <type>transmission_interface/SimpleTransmission</type>
    <joint name="phantom_joint_segment_5_1_beta">
      <hardwareInterface>hardware_interface/PositionJointInterface</hardwareInterface>
    </joint>
    <actuator name="actuator_segment_5_1_beta">
      <hardwareInterface>hardware_interface/PositionJointInterface</hardwareInterface>
      <mechanicalReduction>1</mechanicalReduction>
    </actuator>
  </transmission>
  <transmission name="trans_segment_5_2_alpha2">
    <type>transmission_interface/SimpleTransmission</type>
    <joint name="phantom_joint_segment_5_2_alpha2">
      <hardwareInterface>hardware_interface/PositionJointInterface</hardwareInterface>
    </joint>
    <actuator name="actuator_segment_5_2_alpha2">
      <hardwareInterface>hardware_interface/PositionJointInterface</hardwareInterface>
      <mechanicalReduction>1</mechanicalReduction>
    </actuator>
  </transmission>
  <transmission name="trans_segment_5_3_translation">
    <type>transmission_interface/SimpleTransmission</type>
    <joint name="phantom_joint_segment_5_3_translation">
      <hardwareInterface>hardware_interface/PositionJointInterface</hardwareInterface>
    </joint>
    <actuator name="actuator_segment_5_3_translation">
      <hardwareInterface>hardware_interface/PositionJointInterface</hardwareInterface>
      <mechanicalReduction>1</mechanicalReduction>
    </actuator>
  </transmission>
  <transmission name="trans_segment_5_4_alpha2">
    <type>transmission_interface/SimpleTransmission</type>
    <joint name="phantom_joint_segment_5_4_alpha2">
      <hardwareInterface>hardware_interface/PositionJointInterface</hardwareInterface>
    </joint>
    <actuator name="actuator_segment_5_4_alpha2">
      <hardwareInterface>hardware_interface/PositionJointInterface</hardwareInterface>
      <mechanicalReduction>1</mechanicalReduction>
    </actuator>
  </transmission>
  <transmission name="trans_segment_5_5_betaN">
    <type>transmission_interface/SimpleTransmission</type>
    <joint name="phantom_joint_segment_5_5_betaN">
      <hardwareInterface>hardware_interface/PositionJointInterface</hardwareInterface>
    </joint>
    <actuator name="actuator_segment_5_5_betaN">
      <hardwareInterface>hardware_interface/PositionJointInterface</hardwareInterface>
      <mechanicalReduction>1</mechanicalReduction>
    </actuator>
  </transmission>
  <gazebo reference="phantom_link_0_0">
    <gravity>false</gravity>
    <dampingFactor>0.1</dampingFactor>
    <mu1>0.2</mu1>
    <mu2>0.2</mu2>
    <kp>1e15</kp>
    <kd>1e13</kd>
    <selfCollide>true</selfCollide>
  </gazebo>
  <gazebo reference="phantom_link_0_1">
    <gravity>false</gravity>
    <dampingFactor>0.1</dampingFactor>
    <mu1>0.2</mu1>
    <mu2>0.2</mu2>
    <kp>1e15</kp>
    <kd>1e13</kd>
    <selfCollide>true</selfCollide>
  </gazebo>
  <gazebo reference="phantom_link_0_2">
    <gravity>false</gravity>
    <dampingFactor>0.1</dampingFactor>
    <mu1>0.2</mu1>
    <mu2>0.2</mu2>
    <kp>1e15</kp>
    <kd>1e13</kd>
    <selfCollide>true</selfCollide>
  </gazebo>
  <gazebo reference="phantom_link_0_3">
    <gravity>false</gravity>
    <dampingFactor>0.1</dampingFactor>
    <mu1>0.2</mu1>
    <mu2>0.2</mu2>
    <kp>1e15</kp>
    <kd>1e13</kd>
    <selfCollide>true</selfCollide>
  </gazebo>
  <gazebo reference="phantom_link_0_4">
    <gravity>false</gravity>
    <dampingFactor>0.1</dampingFactor>
    <mu1>0.2</mu1>
    <mu2>0.2</mu2>
    <kp>1e15</kp>
    <kd>1e13</kd>
    <selfCollide>true</selfCollide>
  </gazebo>
  <gazebo reference="phantom_link_0_5">
    <gravity>false</gravity>
    <dampingFactor>0.1</dampingFactor>
    <mu1>0.2</mu1>
    <mu2>0.2</mu2>
    <kp>1e15</kp>
    <kd>1e13</kd>
    <selfCollide>true</selfCollide>
  </gazebo>
  <gazebo reference="plate_0">
    <material>Gazebo/aluminum</material>
    <dampingFactor>0.1</dampingFactor>
    <mu1>0.2</mu1>
    <mu2>0.2</mu2>
    <kp>1e15</kp>
    <kd>1e13</kd>
  </gazebo>
  <gazebo reference="phantom_link_1_0">
    <gravity>false</gravity>
    <dampingFactor>0.1</dampingFactor>
    <mu1>0.2</mu1>
    <mu2>0.2</mu2>
    <kp>1e15</kp>
    <kd>1e13</kd>
    <selfCollide>true</selfCollide>
  </gazebo>
  <gazebo reference="phantom_link_1_1">
    <gravity>false</gravity>
    <dampingFactor>0.1</dampingFactor>
    <mu1>0.2</mu1>
    <mu2>0.2</mu2>
    <kp>1e15</kp>
    <kd>1e13</kd>
    <selfCollide>true</selfCollide>
  </gazebo>
  <gazebo reference="phantom_link_1_2">
    <gravity>false</gravity>
    <dampingFactor>0.1</dampingFactor>
    <mu1>0.2</mu1>
    <mu2>0.2</mu2>
    <kp>1e15</kp>
    <kd>1e13</kd>
    <selfCollide>true</selfCollide>
  </gazebo>
  <gazebo reference="phantom_link_1_3">
    <gravity>false</gravity>
    <dampingFactor>0.1</dampingFactor>
    <mu1>0.2</mu1>
    <mu2>0.2</mu2>
    <kp>1e15</kp>
    <kd>1e13</kd>
    <selfCollide>true</selfCollide>
  </gazebo>
  <gazebo reference="phantom_link_1_4">
    <gravity>false</gravity>
    <dampingFactor>0.1</dampingFactor>
    <mu1>0.2</mu1>
    <mu2>0.2</mu2>
    <kp>1e15</kp>
    <kd>1e13</kd>
    <selfCollide>true</selfCollide>
  </gazebo>
  <gazebo reference="phantom_link_1_5">
    <gravity>false</gravity>
    <dampingFactor>0.1</dampingFactor>
    <mu1>0.2</mu1>
    <mu2>0.2</mu2>
    <kp>1e15</kp>
    <kd>1e13</kd>
    <selfCollide>true</selfCollide>
  </gazebo>
  <gazebo reference="plate_1">
    <material>Gazebo/aluminum</material>
    <dampingFactor>0.1</dampingFactor>
    <mu1>0.2</mu1>
    <mu2>0.2</mu2>
    <kp>1e15</kp>
    <kd>1e13</kd>
  </gazebo>
  <gazebo reference="phantom_link_2_0">
    <gravity>false</gravity>
    <dampingFactor>0.1</dampingFactor>
    <mu1>0.2</mu1>
    <mu2>0.2</mu2>
    <kp>1e15</kp>
    <kd>1e13</kd>
    <selfCollide>true</selfCollide>
  </gazebo>
  <gazebo reference="phantom_link_2_1">
    <gravity>false</gravity>
    <dampingFactor>0.1</dampingFactor>
    <mu1>0.2</mu1>
    <mu2>0.2</mu2>
    <kp>1e15</kp>
    <kd>1e13</kd>
    <selfCollide>true</selfCollide>
  </gazebo>
  <gazebo reference="phantom_link_2_2">
    <gravity>false</gravity>
    <dampingFactor>0.1</dampingFactor>
    <mu1>0.2</mu1>
    <mu2>0.2</mu2>
    <kp>1e15</kp>
    <kd>1e13</kd>
    <selfCollide>true</selfCollide>
  </gazebo>
  <gazebo reference="phantom_link_2_3">
    <gravity>false</gravity>
    <dampingFactor>0.1</dampingFactor>
    <mu1>0.2</mu1>
    <mu2>0.2</mu2>
    <kp>1e15</kp>
    <kd>1e13</kd>
    <selfCollide>true</selfCollide>
  </gazebo>
  <gazebo reference="phantom_link_2_4">
    <gravity>false</gravity>
    <dampingFactor>0.1</dampingFactor>
    <mu1>0.2</mu1>
    <mu2>0.2</mu2>
    <kp>1e15</kp>
    <kd>1e13</kd>
    <selfCollide>true</selfCollide>
  </gazebo>
  <gazebo reference="phantom_link_2_5">
    <gravity>false</gravity>
    <dampingFactor>0.1</dampingFactor>
    <mu1>0.2</mu1>
    <mu2>0.2</mu2>
    <kp>1e15</kp>
    <kd>1e13</kd>
    <selfCollide>true</selfCollide>
  </gazebo>
  <gazebo reference="plate_2">
    <material>Gazebo/aluminum</material>
    <dampingFactor>0.1</dampingFactor>
    <mu1>0.2</mu1>
    <mu2>0.2</mu2>
    <kp>1e15</kp>
    <kd>1e13</kd>
  </gazebo>
  <gazebo reference="phantom_link_3_0">
    <gravity>false</gravity>
    <dampingFactor>0.1</dampingFactor>
    <mu1>0.2</mu1>
    <mu2>0.2</mu2>
    <kp>1e15</kp>
    <kd>1e13</kd>
    <selfCollide>true</selfCollide>
  </gazebo>
  <gazebo reference="phantom_link_3_1">
    <gravity>false</gravity>
    <dampingFactor>0.1</dampingFactor>
    <mu1>0.2</mu1>
    <mu2>0.2</mu2>
    <kp>1e15</kp>
    <kd>1e13</kd>
    <selfCollide>true</selfCollide>
  </gazebo>
  <gazebo reference="phantom_link_3_2">
    <gravity>false</gravity>
    <dampingFactor>0.1</dampingFactor>
    <mu1>0.2</mu1>
    <mu2>0.2</mu2>
    <kp>1e15</kp>
    <kd>1e13</kd>
    <selfCollide>true</selfCollide>
  </gazebo>
  <gazebo reference="phantom_link_3_3">
    <gravity>false</gravity>
    <dampingFactor>0.1</dampingFactor>
    <mu1>0.2</mu1>
    <mu2>0.2</mu2>
    <kp>1e15</kp>
    <kd>1e13</kd>
    <selfCollide>true</selfCollide>
  </gazebo>
  <gazebo reference="phantom_link_3_4">
    <gravity>false</gravity>
    <dampingFactor>0.1</dampingFactor>
    <mu1>0.2</mu1>
    <mu2>0.2</mu2>
    <kp>1e15</kp>
    <kd>1e13</kd>
    <selfCollide>true</selfCollide>
  </gazebo>
  <gazebo reference="phantom_link_3_5">
    <gravity>false</gravity>
    <dampingFactor>0.1</dampingFactor>
    <mu1>0.2</mu1>
    <mu2>0.2</mu2>
    <kp>1e15</kp>
    <kd>1e13</kd>
    <selfCollide>true</selfCollide>
  </gazebo>
  <gazebo reference="plate_3">
    <material>Gazebo/aluminum</material>
    <dampingFactor>0.1</dampingFactor>
    <mu1>0.2</mu1>
    <mu2>0.2</mu2>
    <kp>1e15</kp>
    <kd>1e13</kd>
  </gazebo>
  <gazebo reference="phantom_link_4_0">
    <gravity>false</gravity>
    <dampingFactor>0.1</dampingFactor>
    <mu1>0.2</mu1>
    <mu2>0.2</mu2>
    <kp>1e15</kp>
    <kd>1e13</kd>
    <selfCollide>true</selfCollide>
  </gazebo>
  <gazebo reference="phantom_link_4_1">
    <gravity>false</gravity>
    <dampingFactor>0.1</dampingFactor>
    <mu1>0.2</mu1>
    <mu2>0.2</mu2>
    <kp>1e15</kp>
    <kd>1e13</kd>
    <selfCollide>true</selfCollide>
  </gazebo>
  <gazebo reference="phantom_link_4_2">
    <gravity>false</gravity>
    <dampingFactor>0.1</dampingFactor>
    <mu1>0.2</mu1>
    <mu2>0.2</mu2>
    <kp>1e15</kp>
    <kd>1e13</kd>
    <selfCollide>true</selfCollide>
  </gazebo>
  <gazebo reference="phantom_link_4_3">
    <gravity>false</gravity>
    <dampingFactor>0.1</dampingFactor>
    <mu1>0.2</mu1>
    <mu2>0.2</mu2>
    <kp>1e15</kp>
    <kd>1e13</kd>
    <selfCollide>true</selfCollide>
  </gazebo>
  <gazebo reference="phantom_link_4_4">
    <gravity>false</gravity>
    <dampingFactor>0.1</dampingFactor>
    <mu1>0.2</mu1>
    <mu2>0.2</mu2>
    <kp>1e15</kp>
    <kd>1e13</kd>
    <selfCollide>true</selfCollide>
  </gazebo>
  <gazebo reference="phantom_link_4_5">
    <gravity>false</gravity>
    <dampingFactor>0.1</dampingFactor>
    <mu1>0.2</mu1>
    <mu2>0.2</mu2>
    <kp>1e15</kp>
    <kd>1e13</kd>
    <selfCollide>true</selfCollide>
  </gazebo>
  <gazebo reference="plate_4">
    <material>Gazebo/aluminum</material>
    <dampingFactor>0.1</dampingFactor>
    <mu1>0.2</mu1>
    <mu2>0.2</mu2>
    <kp>1e15</kp>
    <kd>1e13</kd>
  </gazebo>
  <gazebo reference="phantom_link_5_0">
    <gravity>false</gravity>
    <dampingFactor>0.1</dampingFactor>
    <mu1>0.2</mu1>
    <mu2>0.2</mu2>
    <kp>1e15</kp>
    <kd>1e13</kd>
    <selfCollide>true</selfCollide>
  </gazebo>
  <gazebo reference="phantom_link_5_1">
    <gravity>false</gravity>
    <dampingFactor>0.1</dampingFactor>
    <mu1>0.2</mu1>
    <mu2>0.2</mu2>
    <kp>1e15</kp>
    <kd>1e13</kd>
    <selfCollide>true</selfCollide>
  </gazebo>
  <gazebo reference="phantom_link_5_2">
    <gravity>false</gravity>
    <dampingFactor>0.1</dampingFactor>
    <mu1>0.2</mu1>
    <mu2>0.2</mu2>
    <kp>1e15</kp>
    <kd>1e13</kd>
    <selfCollide>true</selfCollide>
  </gazebo>
  <gazebo reference="phantom_link_5_3">
    <gravity>false</gravity>
    <dampingFactor>0.1</dampingFactor>
    <mu1>0.2</mu1>
    <mu2>0.2</mu2>
    <kp>1e15</kp>
    <kd>1e13</kd>
    <selfCollide>true</selfCollide>
  </gazebo>
  <gazebo reference="phantom_link_5_4">
    <gravity>false</gravity>
    <dampingFactor>0.1</dampingFactor>
    <mu1>0.2</mu1>
    <mu2>0.2</mu2>
    <kp>1e15</kp>
    <kd>1e13</kd>
    <selfCollide>true</selfCollide>
  </gazebo>
  <gazebo reference="phantom_link_5_5">
    <gravity>false</gravity>
    <dampingFactor>0.1</dampingFactor>
    <mu1>0.2</mu1>
    <mu2>0.2</mu2>
    <kp>1e15</kp>
    <kd>1e13</kd>
    <selfCollide>true</selfCollide>
  </gazebo>
  <gazebo reference="plate_5">
    <material>Gazebo/aluminum</material>
    <dampingFactor>0.1</dampingFactor>
    <mu1>0.2</mu1>
    <mu2>0.2</mu2>
    <kp>1e15</kp>
    <kd>1e13</kd>
  </gazebo>
  <gazebo reference="phantom_joint_segment_0_1_beta">
    </gazebo>
  <gazebo reference="phantom_joint_segment_0_2_alpha2">
    <springStiffness>20</springStiffness>
    <springReference>0</springReference>
  </gazebo>
  <gazebo reference="phantom_joint_segment_0_3_translation">
    <springStiffness>15000</springStiffness>
    <springReference>0</springReference>
  </gazebo>
  <gazebo reference="phantom_joint_segment_0_4_alpha2">
    <springStiffness>20</springStiffness>
    <springReference>0</springReference>
  </gazebo>
  <gazebo reference="phantom_joint_segment_0_5_betaN">
    </gazebo>
  <gazebo reference="phantom_joint_segment_1_1_beta">
    </gazebo>
  <gazebo reference="phantom_joint_segment_1_2_alpha2">
    <springStiffness>20</springStiffness>
    <springReference>0</springReference>
  </gazebo>
  <gazebo reference="phantom_joint_segment_1_3_translation">
    <springStiffness>15000</springStiffness>
    <springReference>0</springReference>
  </gazebo>
  <gazebo reference="phantom_joint_segment_1_4_alpha2">
    <springStiffness>20</springStiffness>
    <springReference>0</springReference>
  </gazebo>
  <gazebo reference="phantom_joint_segment_1_5_betaN">
    </gazebo>
  <gazebo reference="phantom_joint_segment_2_1_beta">
    </gazebo>
  <gazebo reference="phantom_joint_segment_2_2_alpha2">
    <springStiffness>20</springStiffness>
    <springReference>0</springReference>
  </gazebo>
  <gazebo reference="phantom_joint_segment_2_3_translation">
    <springStiffness>15000</springStiffness>
    <springReference>0</springReference>
  </gazebo>
  <gazebo reference="phantom_joint_segment_2_4_alpha2">
    <springStiffness>20</springStiffness>
    <springReference>0</springReference>
  </gazebo>
  <gazebo reference="phantom_joint_segment_2_5_betaN">
    </gazebo>
  <gazebo reference="phantom_joint_segment_3_1_beta">
    </gazebo>
  <gazebo reference="phantom_joint_segment_3_2_alpha2">
    <springStiffness>20</springStiffness>
    <springReference>0</springReference>
  </gazebo>
  <gazebo reference="phantom_joint_segment_3_3_translation">
    <springStiffness>15000</springStiffness>
    <springReference>0</springReference>
  </gazebo>
  <gazebo reference="phantom_joint_segment_3_4_alpha2">
    <springStiffness>20</springStiffness>
    <springReference>0</springReference>
  </gazebo>
  <gazebo reference="phantom_joint_segment_3_5_betaN">
    </gazebo>
  <gazebo reference="phantom_joint_segment_4_1_beta">
    </gazebo>
  <gazebo reference="phantom_joint_segment_4_2_alpha2">
    <springStiffness>20</springStiffness>
    <springReference>0</springReference>
  </gazebo>
  <gazebo reference="phantom_joint_segment_4_3_translation">
    <springStiffness>15000</springStiffness>
    <springReference>0</springReference>
  </gazebo>
  <gazebo reference="phantom_joint_segment_4_4_alpha2">
    <springStiffness>20</springStiffness>
    <springReference>0</springReference>
  </gazebo>
  <gazebo reference="phantom_joint_segment_4_5_betaN">
    </gazebo>
  <gazebo reference="phantom_joint_segment_5_1_beta">
    </gazebo>
  <gazebo reference="phantom_joint_segment_5_2_alpha2">
    <springStiffness>20</springStiffness>
    <springReference>0</springReference>
  </gazebo>
  <gazebo reference="phantom_joint_segment_5_3_translation">
    <springStiffness>15000</springStiffness>
    <springReference>0</springReference>
  </gazebo>
  <gazebo reference="phantom_joint_segment_5_4_alpha2">
    <springStiffness>20</springStiffness>
    <springReference>0</springReference>
  </gazebo>
  <gazebo reference="phantom_joint_segment_5_5_betaN">
    </gazebo>
</robot>
